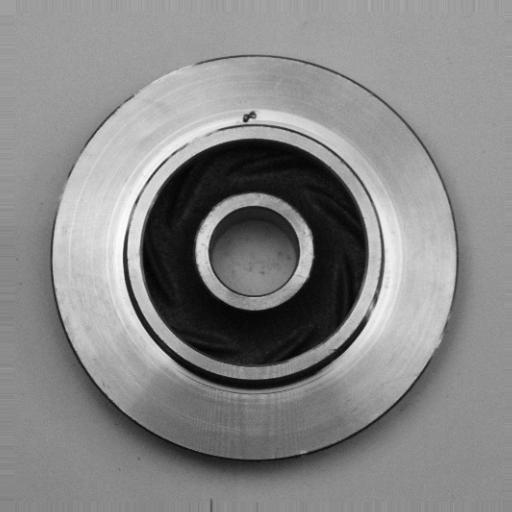crack: (230, 105, 264, 131)
scratch: (170, 121, 228, 152)
unpolished_casting: (49, 51, 461, 467)
